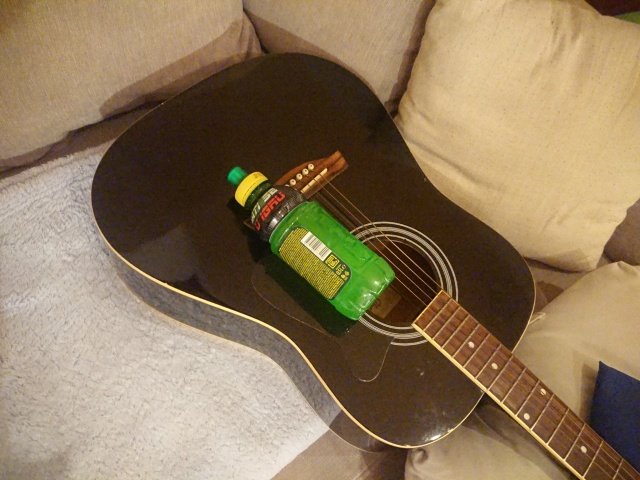Vindi Iso Sport Lemon-Grapefruit 500mL: (225, 164, 398, 323)
